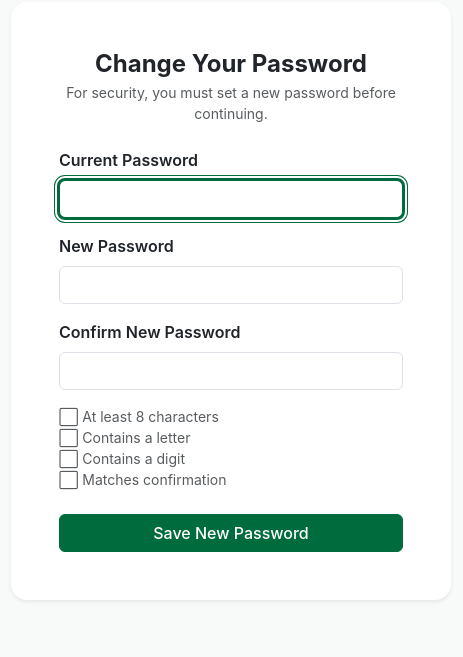
Change Password Screen (AC-02, BR-09, BR-10, BR-11) › UI-02b: blocks submission client-side until the confirmation matches (BR-11)
This screenshot has width=463, height=657.
Type "OldPass123" into the password field labelled "Current Password" at point(231, 199), box [59,180,403,218]
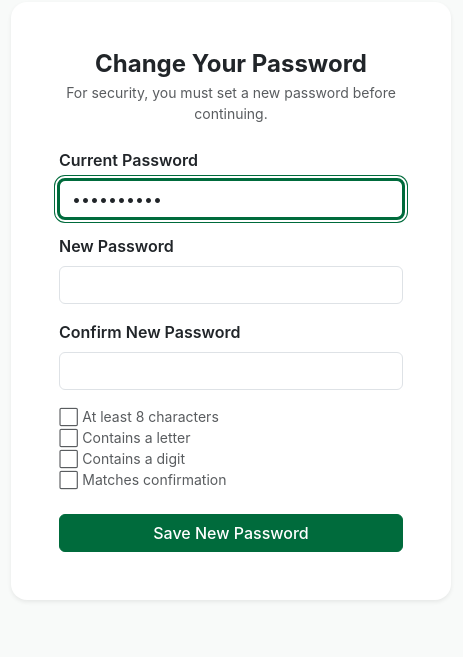
Type "NewPass123" into the password field labelled "New Password" at point(231, 285), box [59,266,403,304]
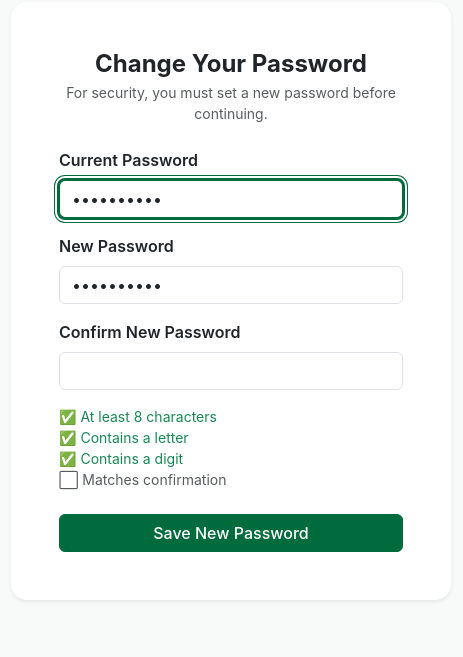
Type "Mismatch123" into the password field labelled "Confirm New Password" at point(231, 371), box [59,352,403,390]
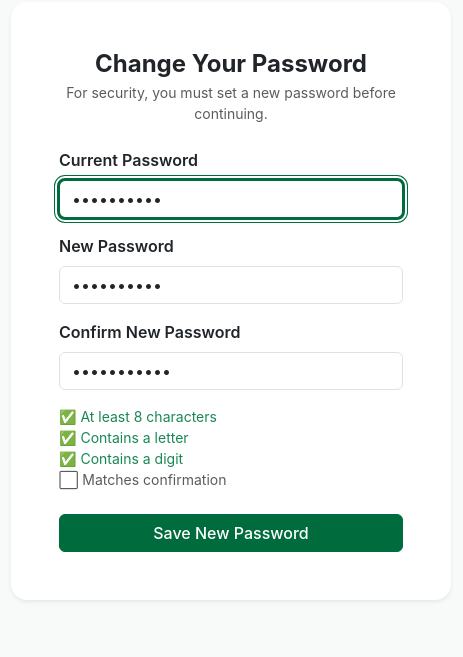
Click the button "Save New Password" at point(231, 533), box [59,514,403,552]
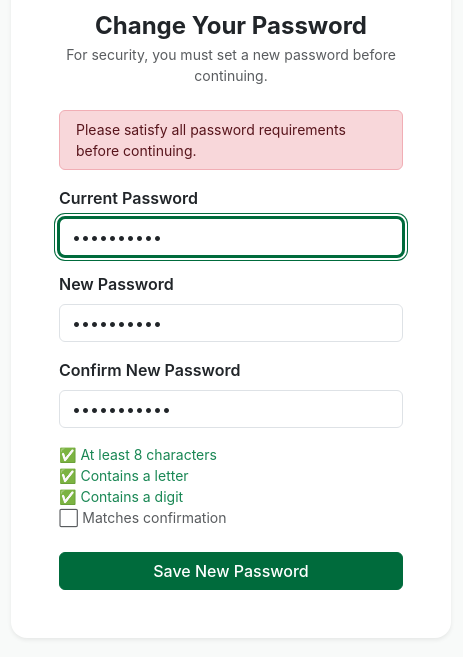
Check: the text "Please satisfy all password requirements before continuing." is shown, box [59,110,403,170]
